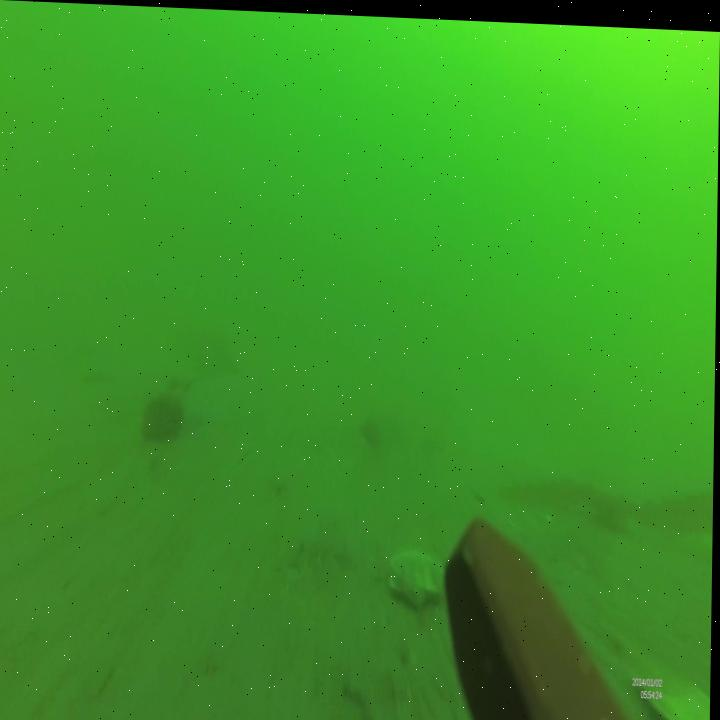echinus: (143, 393, 184, 443)
scallop: (648, 662, 713, 720), (390, 546, 447, 605)
